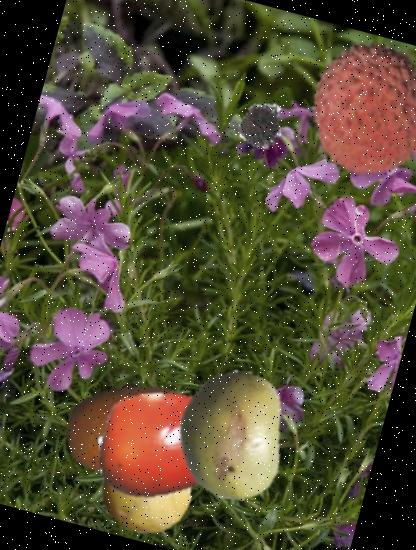Grapefruit: (90, 434, 206, 548)
Kaki: (83, 362, 251, 530)
Kumquats: (50, 348, 214, 512)
Lychee: (287, 25, 416, 192)
Plum: (98, 382, 181, 465)
Pomelo: (152, 356, 310, 514)
Rambutan: (232, 94, 294, 156)
